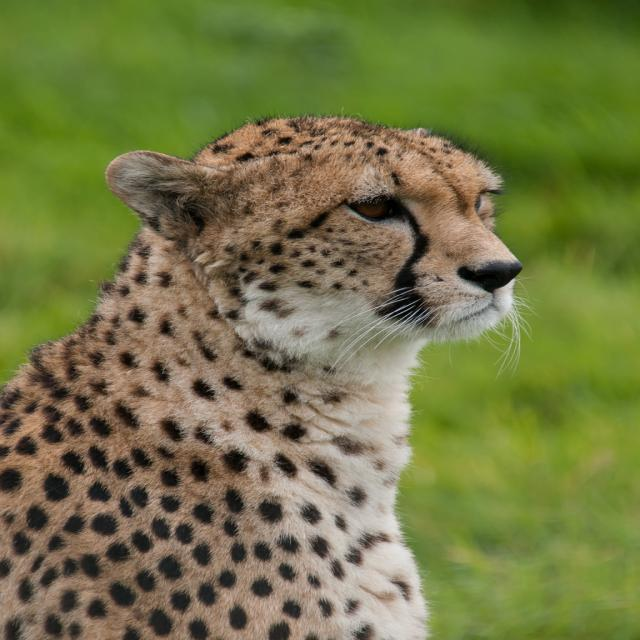Cheetah: (0, 110, 531, 640), (0, 114, 535, 640)
